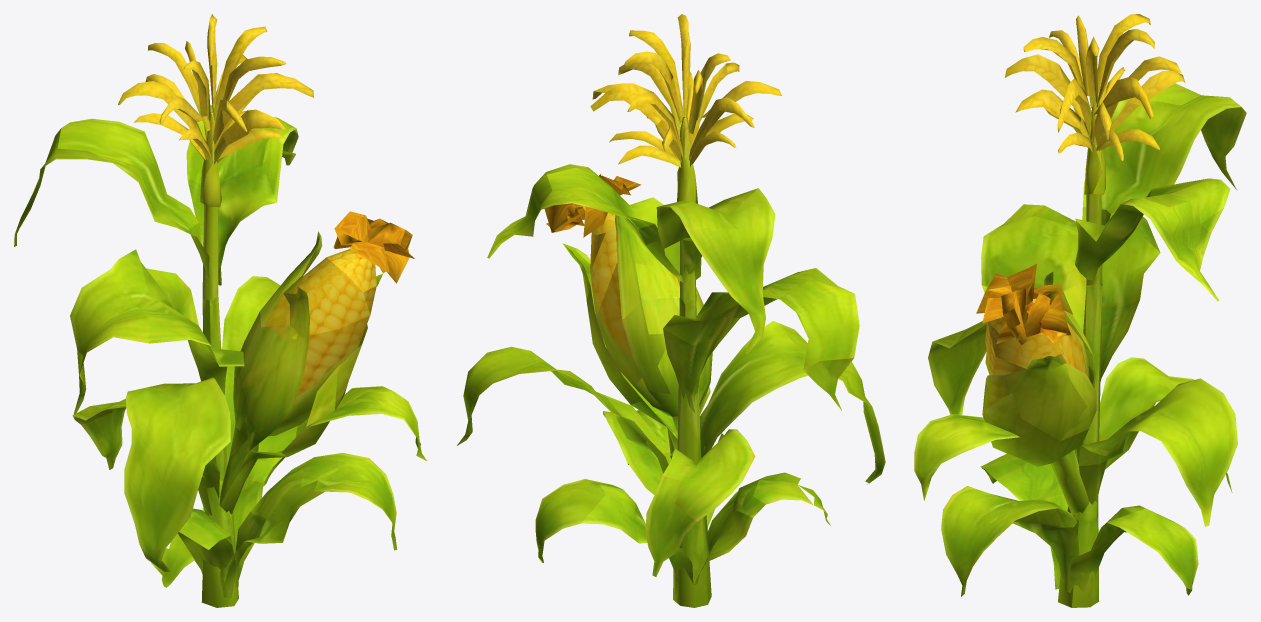
File: corn.glb
3 views of the same model, side by side, from view 1: azimuth 30°, elevation 25°; view 2: azimuth 150°, elevation 25°; view 3: azimuth 270°, elevation 25° (orthographic). The views are drawn at different scales.
Bounding box in the file's own units: 0.6113 × 1 × 0.5195.
1 material, 1 textured.
